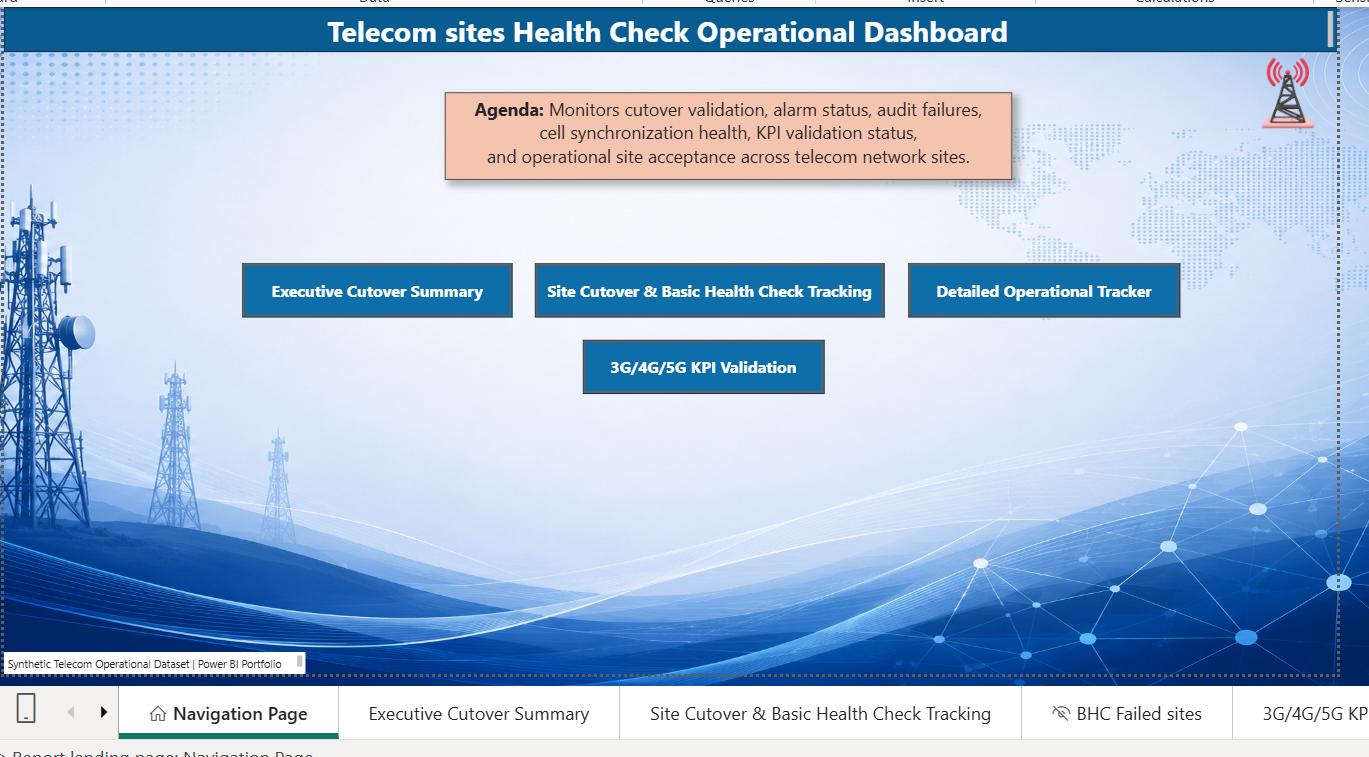

The dashboard page shown, as its layout file describes it:
{"tool":"powerbi","page":{"name":"Navigation Page","canvas":[2000,1000],"ordinal":0},"visuals":[{"type":"textbox","box":[0,0,1999.3,67.5],"z":0},{"type":"textbox","box":[661.2,128.2,850.1,130.4],"z":1000},{"type":"actionButton","box":[357.6,384.6,404.8,81],"z":2000},{"type":"actionButton","box":[796.1,384.6,524,81],"z":3000},{"type":"actionButton","box":[868.1,499.3,362.1,81],"z":4000},{"type":"actionButton","box":[1356.1,384.6,407.1,81],"z":5000},{"type":"image","box":[1850.9,67.5,148.4,121.4],"z":6000},{"type":"textbox","box":[0,967,452,33.7],"z":7000}]}

Visuals, with their boxes on the page's 2000x1000 design canvas (x1, y1, x2, y2). These are canvas units, not pixel positions in the 1369x757 screenshot, which may show the page scaled, cropped or inside an application window:
textbox: box=[0, 0, 1999, 68]
textbox: box=[661, 128, 1511, 259]
actionButton: box=[358, 385, 762, 466]
actionButton: box=[796, 385, 1320, 466]
actionButton: box=[868, 499, 1230, 580]
actionButton: box=[1356, 385, 1763, 466]
image: box=[1851, 68, 1999, 189]
textbox: box=[0, 967, 452, 1001]
